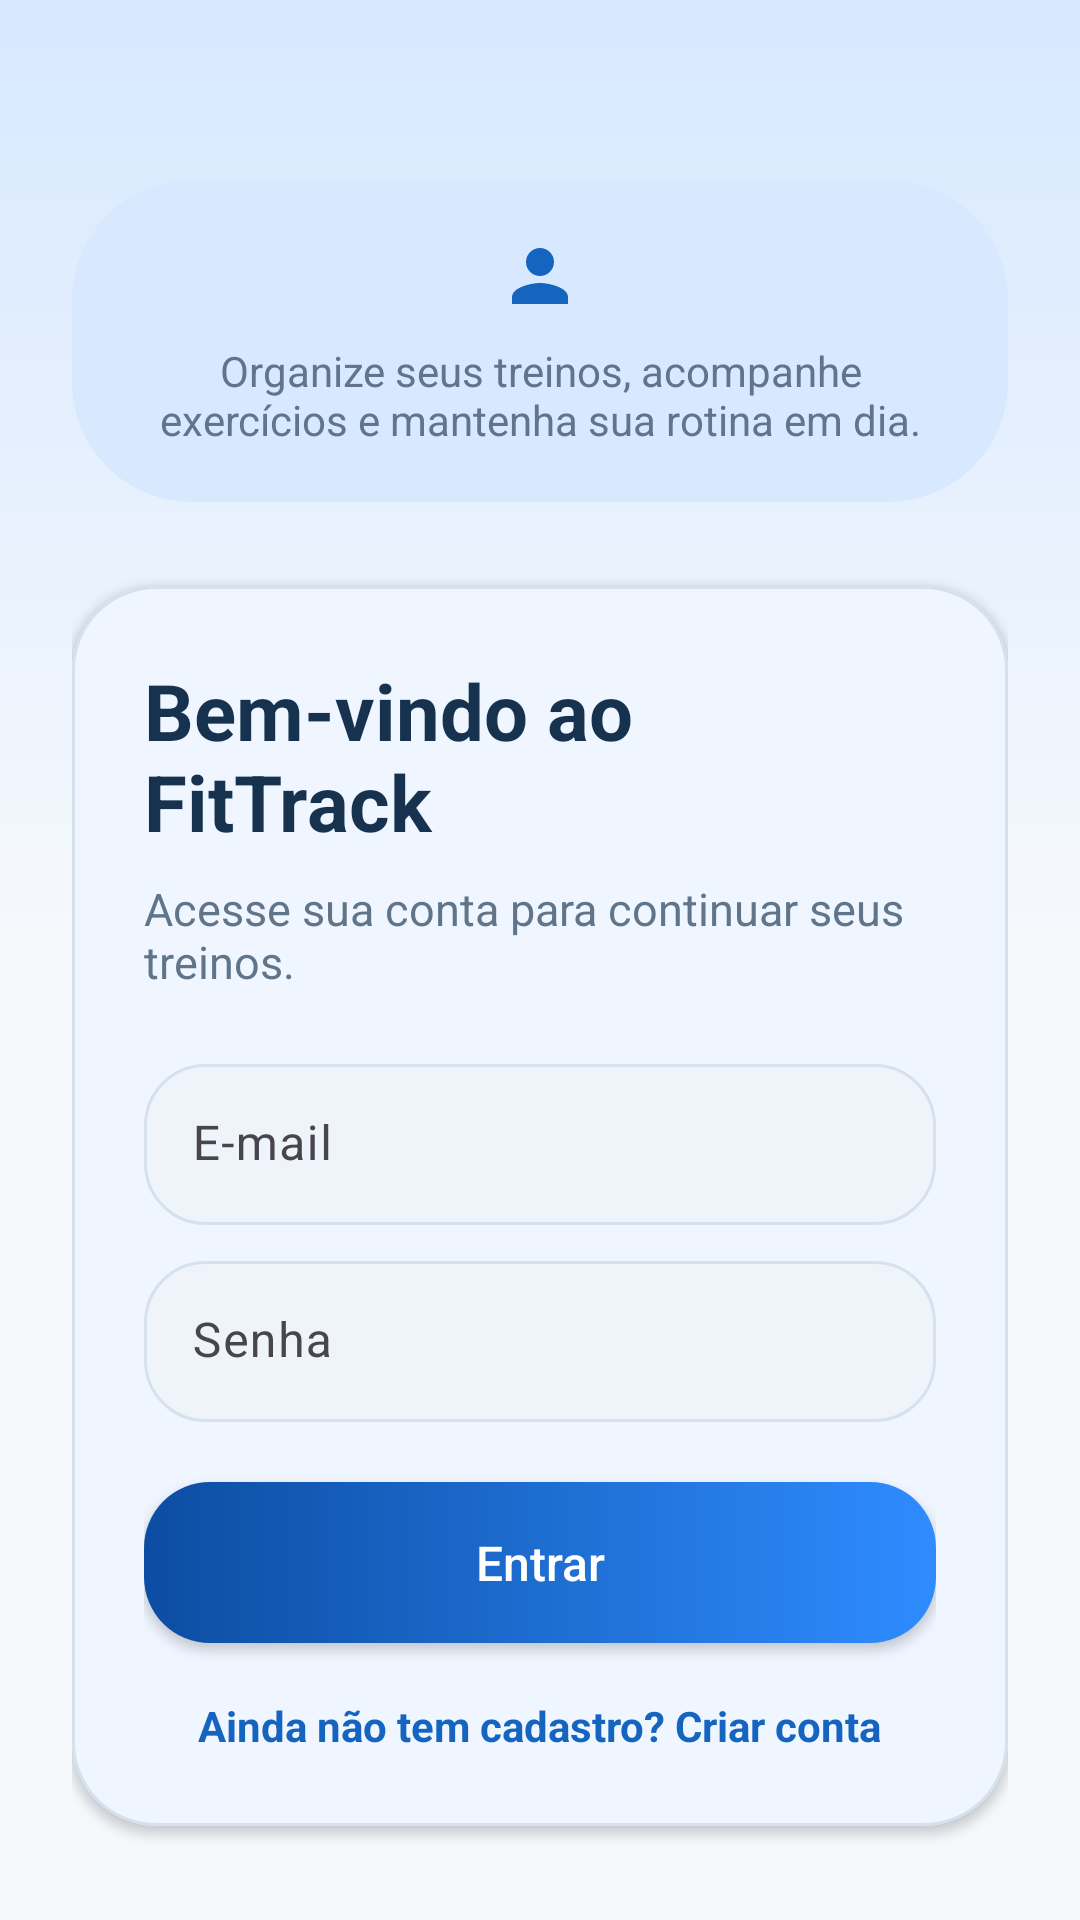

Point at icon controls on the screen. Image size 1080*1920, points as (x=x, y=y).
person: (x=540, y=276)
